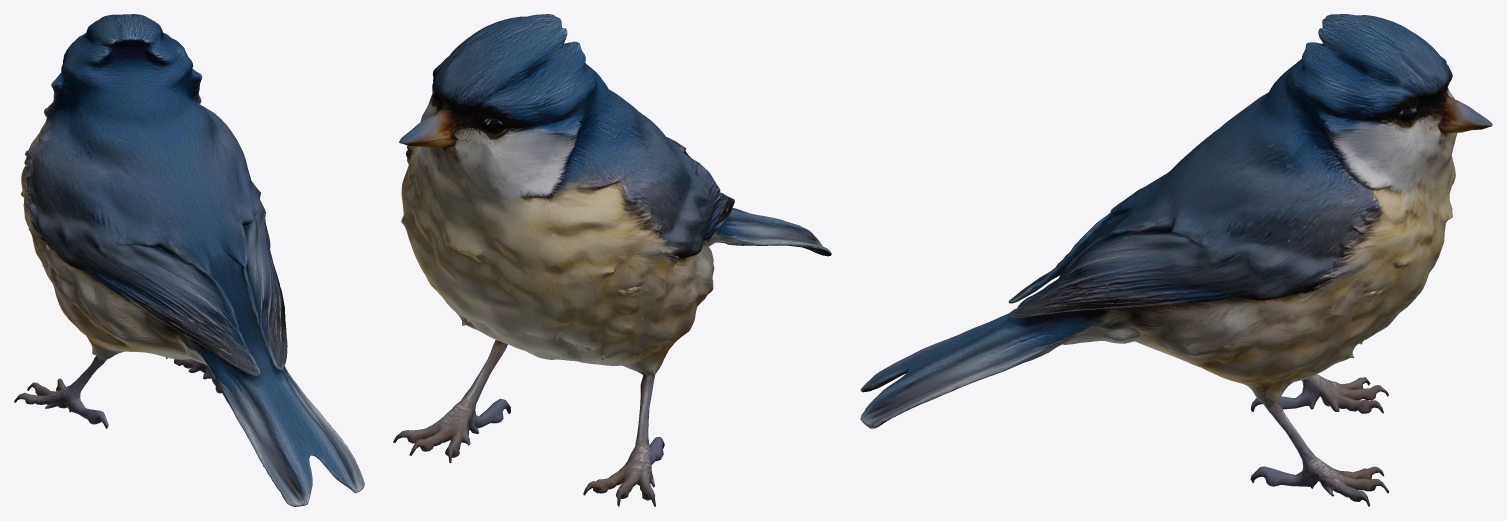
Rendered from bird-standing.glb.
3 renders of one model, left to right at view 1: azimuth 30°, elevation 25°; view 2: azimuth 150°, elevation 25°; view 3: azimuth 270°, elevation 25°, orthographic. The views are drawn at different scales.
Parts seen in each view (by area): view 1: tripo_node_17330186-960f-4a10-94c5-4229efef82eb; view 2: tripo_node_17330186-960f-4a10-94c5-4229efef82eb; view 3: tripo_node_17330186-960f-4a10-94c5-4229efef82eb.
Boxes of the visible parts, x1,y1,x2,y2 form: tripo_node_17330186-960f-4a10-94c5-4229efef82eb: (14,14,364,506); tripo_node_17330186-960f-4a10-94c5-4229efef82eb: (393,14,831,506); tripo_node_17330186-960f-4a10-94c5-4229efef82eb: (860,14,1492,506).
Size of the model in its own units: 0.0914 by 0.15 by 0.1992.
Materials: 1 (1 with a texture image).
